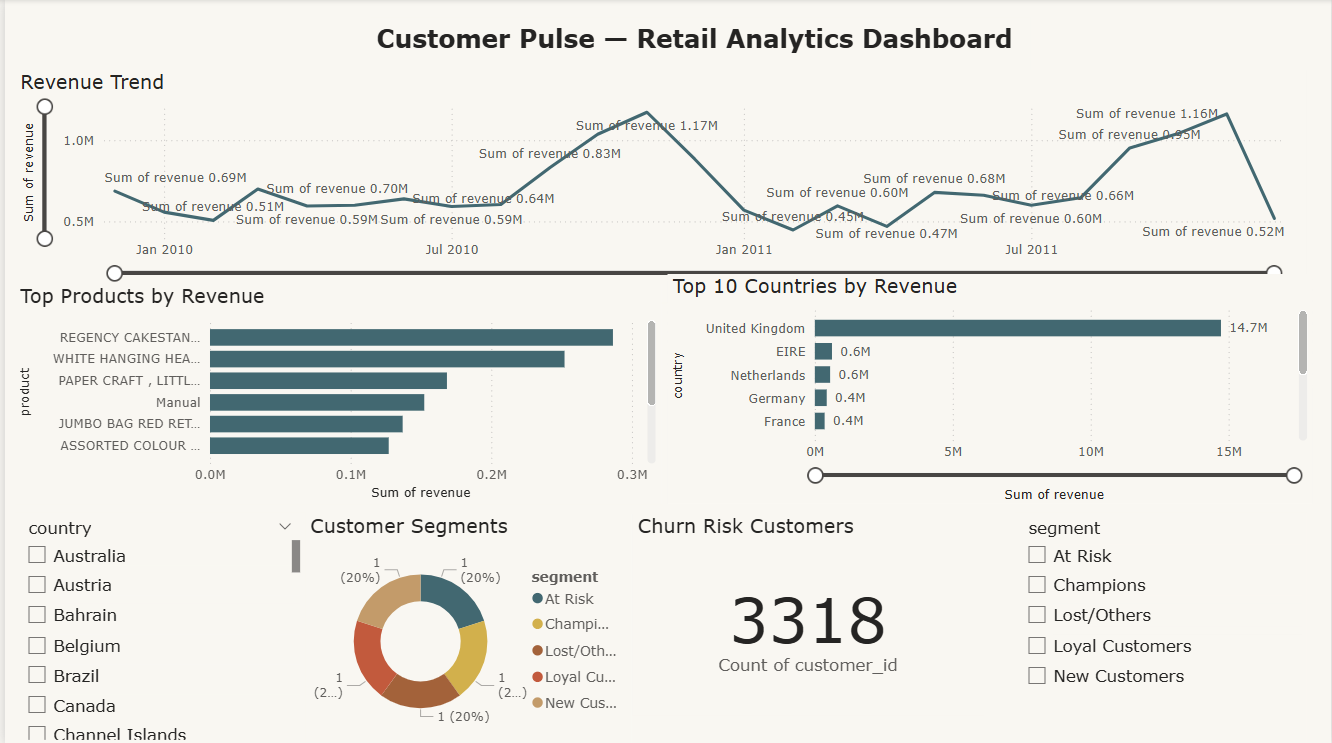

Layout of this report page (visuals, bound fields, positions):
{"tool":"powerbi","page":{"name":"Page 1","canvas":[1280,720],"ordinal":0},"visuals":[{"type":"lineChart","title":"Revenue Trend","fields":{"Y":["Sum(monthly_revenue.revenue)"],"Category":["monthly_revenue.month"]},"box":[9.8,68.5,1246.1,223.8],"z":0},{"type":"clusteredBarChart","title":"Top Products by Revenue","fields":{"Category":["top_products.product"],"Y":["Sum(top_products.revenue)"]},"box":[9.8,275.1,623.6,212.8],"z":1},{"type":"donutChart","title":"Customer Segments","fields":{"Category":["segment_summary.segment"],"Y":["CountNonNull(segment_summary.customer_count)"]},"box":[289.8,496.5,315.5,223.8],"z":2},{"type":"clusteredBarChart","title":"Top 10 Countries by Revenue","fields":{"Category":["country_sales.country"],"Y":["Sum(country_sales.revenue)"]},"box":[639.4,265.4,622.5,222],"z":3},{"type":"card","title":"Churn Risk Customers","fields":{"Values":["CountNonNull(churn_risk.customer_id)"]},"box":[605.6,497.1,339,194.2],"z":5},{"type":"slicer","fields":{"Values":["country_sales.country"]},"box":[9.7,495.8,279.9,224.4],"z":6},{"type":"slicer","fields":{"Values":["segment_summary.segment"]},"box":[974.3,496.1,281.6,223.5],"z":7},{"type":"textbox","box":[353.5,18.1,635.8,50.7],"z":8}]}

Visuals, with their boxes in screenshot pixels (x1, y1, x2, y2), scaled from the page's 1280x720 canvas onto the 1332x743 screenshot:
"Revenue Trend" lineChart: region(10, 71, 1307, 302)
"Top Products by Revenue" clusteredBarChart: region(10, 284, 659, 503)
"Customer Segments" donutChart: region(302, 512, 630, 742)
"Top 10 Countries by Revenue" clusteredBarChart: region(665, 274, 1313, 503)
"Churn Risk Customers" card: region(630, 513, 983, 713)
slicer - country_sales.country: region(10, 512, 301, 742)
slicer - segment_summary.segment: region(1014, 512, 1307, 742)
textbox: region(368, 19, 1029, 71)
